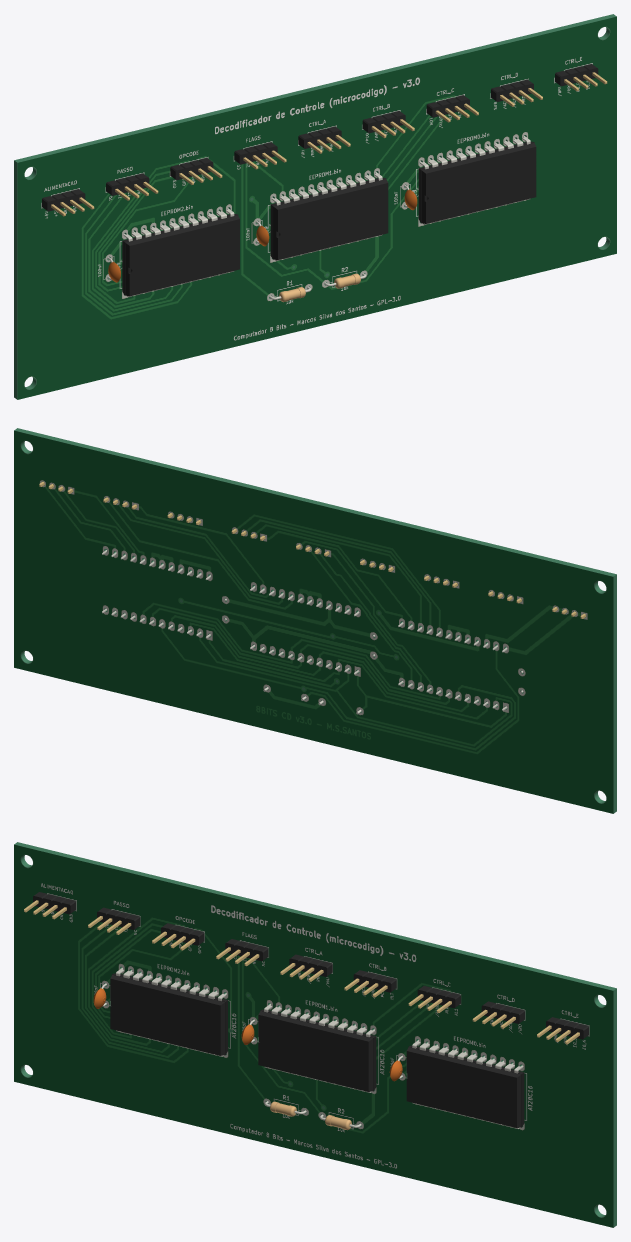
The model's file is cd-decodificador-controle.glb.
3 views of the same model, one above another, from view 1: azimuth 30°, elevation 25°; view 2: azimuth 150°, elevation 25°; view 3: azimuth 330°, elevation 25° (orthographic).
Parts seen in each view (by area): view 1: superficie_topo, =>[0:1:1:3]_2_e131eb, =>[0:1:1:3]_3a1e05, =>[0:1:1:3]_1_75c2ed, =>[0:1:1:10], =>[0:1:1:3]_1_65ffe4, =>[0:1:1:3]_4d2928, =>[0:1:1:3]_2_a4d543, =>[0:1:1:5]_5_f3faf0, =>[0:1:1:5]_1, =>[0:1:1:5]_4_4df9ec, =>[0:1:1:5]_7_03dd7a (+5 smaller); view 2: superficie_fundo, =>[0:1:1:10]; view 3: superficie_topo, =>[0:1:1:3]_3a1e05, =>[0:1:1:3]_2_e131eb, =>[0:1:1:3]_1_75c2ed, =>[0:1:1:10], =>[0:1:1:3]_2_a4d543, =>[0:1:1:3]_4d2928, =>[0:1:1:3]_1_65ffe4, =>[0:1:1:5]_3_97cbc9, =>[0:1:1:5]_7_03dd7a, =>[0:1:1:5]_2_b3196e, =>[0:1:1:5]_5_f3faf0 (+5 smaller).
Boxes of the visible parts, x1,y1,x2,y2 form: superficie_topo: [17, 16, 616, 399]; =>[0:1:1:3]_2_e131eb: [270, 177, 388, 259]; =>[0:1:1:3]_3a1e05: [418, 141, 536, 223]; =>[0:1:1:3]_1_75c2ed: [122, 213, 239, 296]; =>[0:1:1:10]: [14, 14, 616, 399]; =>[0:1:1:3]_1_65ffe4: [123, 208, 234, 297]; =>[0:1:1:3]_4d2928: [420, 136, 530, 224]; =>[0:1:1:3]_2_a4d543: [271, 172, 382, 260]; =>[0:1:1:5]_5_f3faf0: [234, 142, 277, 164]; =>[0:1:1:5]_1: [42, 189, 85, 211]; =>[0:1:1:5]_4_4df9ec: [170, 158, 213, 180]; =>[0:1:1:5]_7_03dd7a: [362, 111, 405, 133]; superficie_fundo: [14, 430, 613, 813]; =>[0:1:1:10]: [14, 428, 616, 813]; superficie_topo: [14, 844, 613, 1227]; =>[0:1:1:3]_3a1e05: [406, 1045, 524, 1127]; =>[0:1:1:3]_2_e131eb: [258, 1009, 376, 1091]; =>[0:1:1:3]_1_75c2ed: [110, 973, 227, 1055]; =>[0:1:1:10]: [14, 842, 616, 1227]; =>[0:1:1:3]_2_a4d543: [264, 1004, 374, 1092]; =>[0:1:1:3]_4d2928: [412, 1040, 523, 1128]; =>[0:1:1:3]_1_65ffe4: [116, 968, 226, 1056]; =>[0:1:1:5]_3_97cbc9: [289, 954, 332, 976]; =>[0:1:1:5]_7_03dd7a: [353, 970, 396, 992]; =>[0:1:1:5]_2_b3196e: [481, 1001, 524, 1023]; =>[0:1:1:5]_5_f3faf0: [225, 939, 268, 961].
Bounding box in the file's own units: 0.1612 × 0.0609 × 0.0118.
7 materials, 2 textured.
